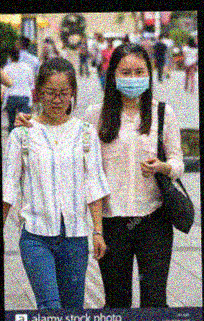with_mask: (114, 65, 151, 99)
without_mask: (38, 83, 73, 118)
